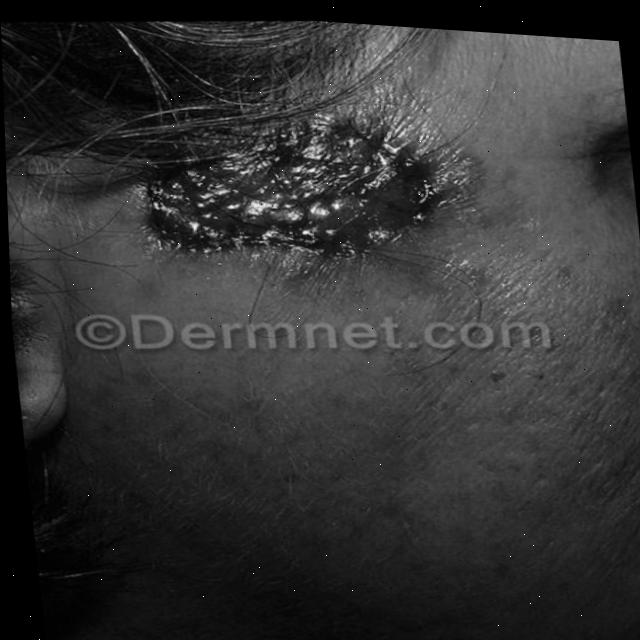Eczema: (125, 95, 448, 277)
